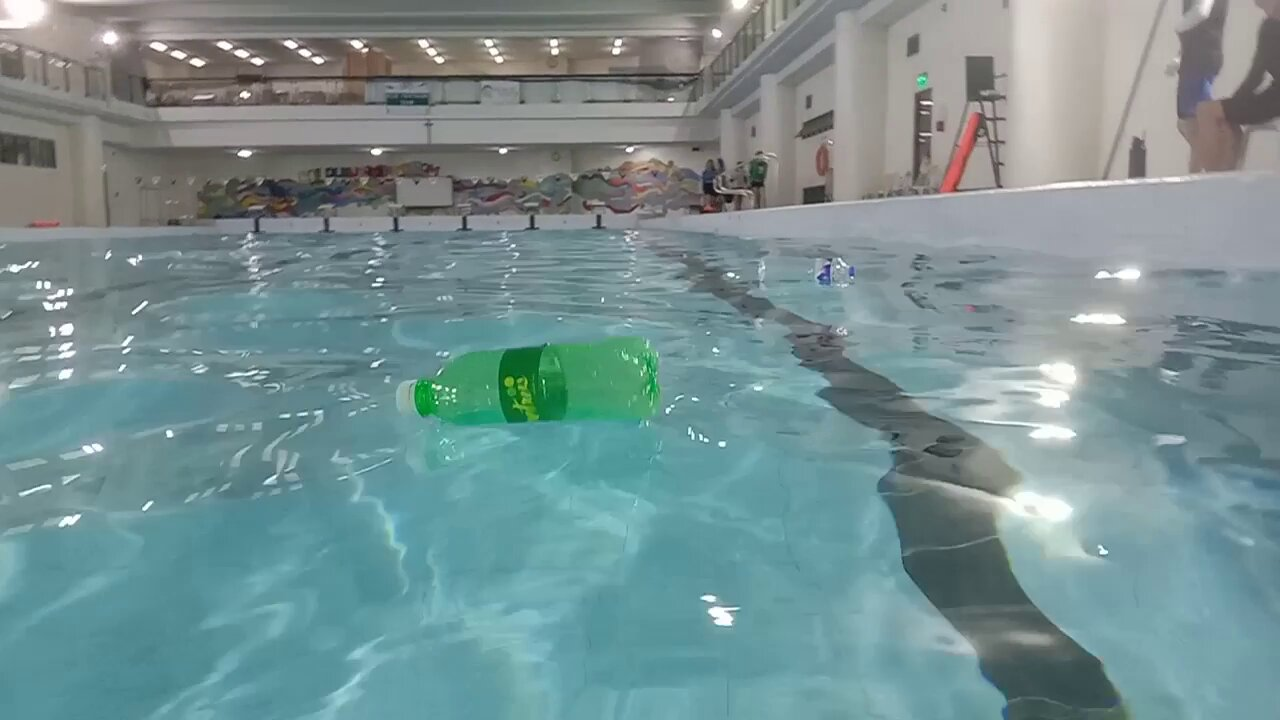plastic_bottle: (396, 336, 659, 423), (757, 254, 857, 288)
